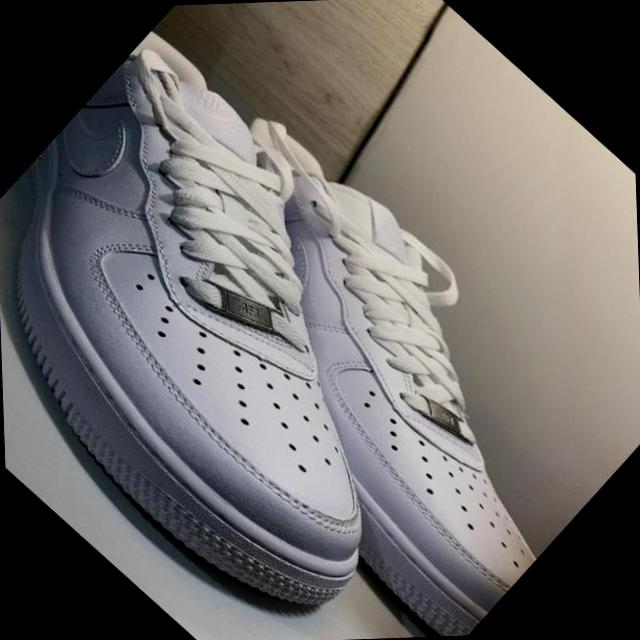nike_original_airforce: (0, 11, 555, 640), (48, 69, 640, 640)
